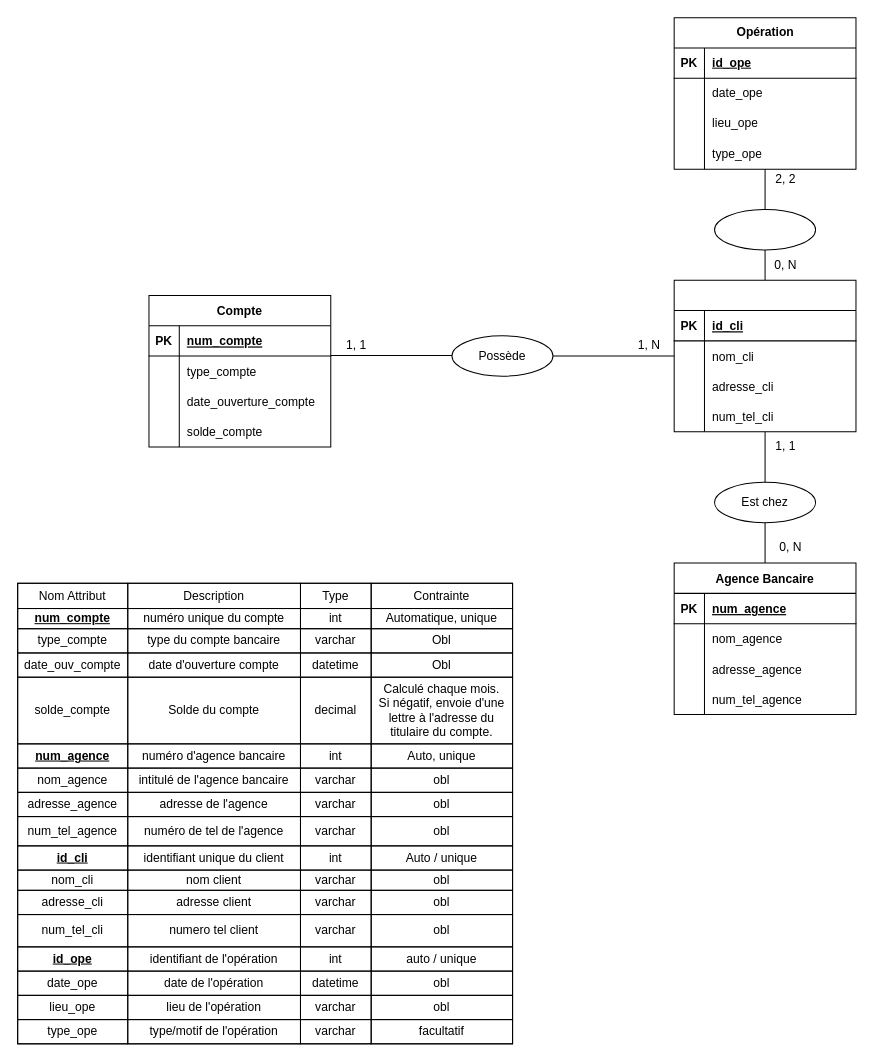
The diagram is 874 pixels wide and 1062 high, and some of its shapes have lost their labels. Each missing label, with the box of its shape:
A fait: (714, 209, 816, 250)
Client: (673, 279, 856, 432)
